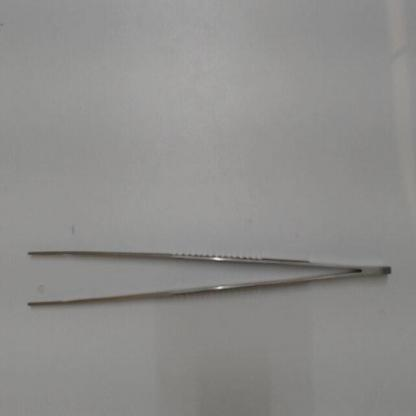DeBakey Dissector: (15, 235, 411, 314)
